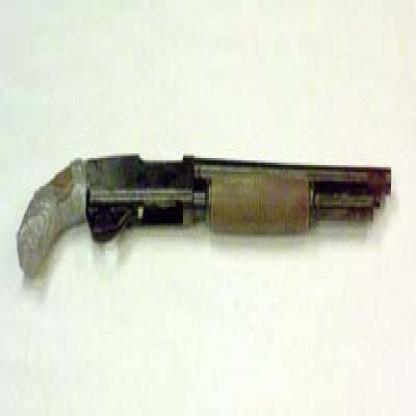gun: (11, 148, 399, 286)
